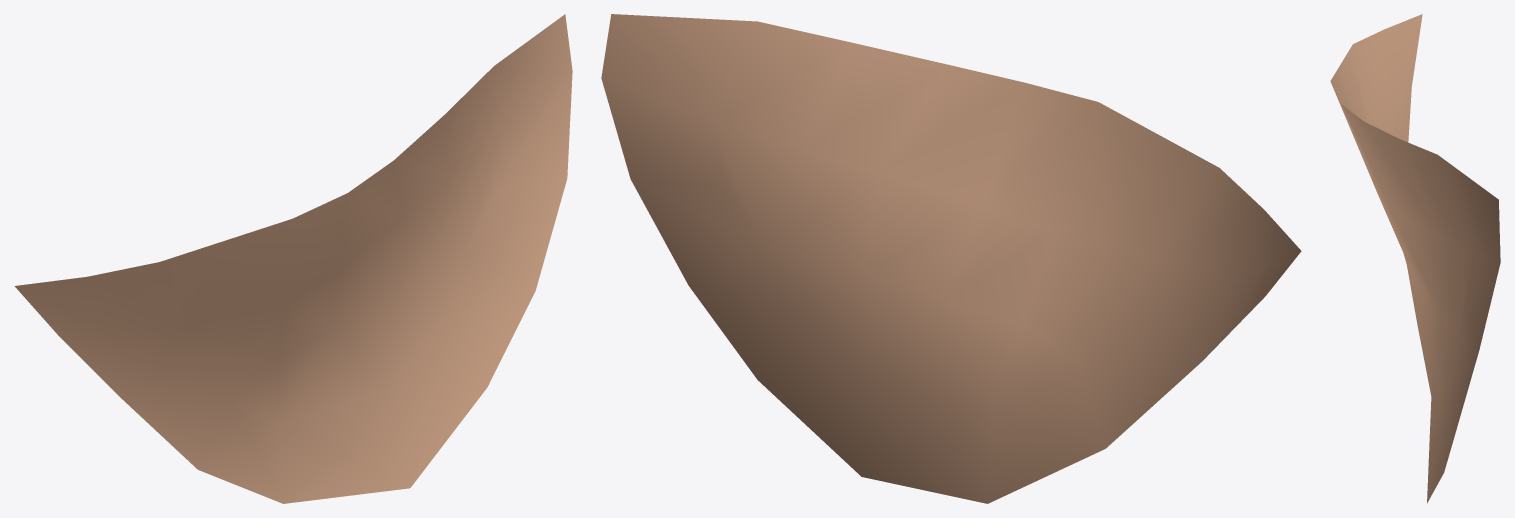
Rendered from cubital-fossa-l.glb.
The picture shows the model from 3 angles, left to right: view 1: azimuth 30°, elevation 25°; view 2: azimuth 150°, elevation 25°; view 3: azimuth 270°, elevation 25°; orthographic projection. The views are drawn at different scales.
Visible parts, largest first — view 1: Cubital fossa.l; view 2: Cubital fossa.l; view 3: Cubital fossa.l.
Part boxes in pixels (x1,y1,x2,y2): Cubital fossa.l: (14, 14, 572, 503); Cubital fossa.l: (601, 14, 1301, 503); Cubital fossa.l: (1330, 14, 1500, 503).
Size of the model in its own units: 0.0457 by 0.0293 by 0.0114.
